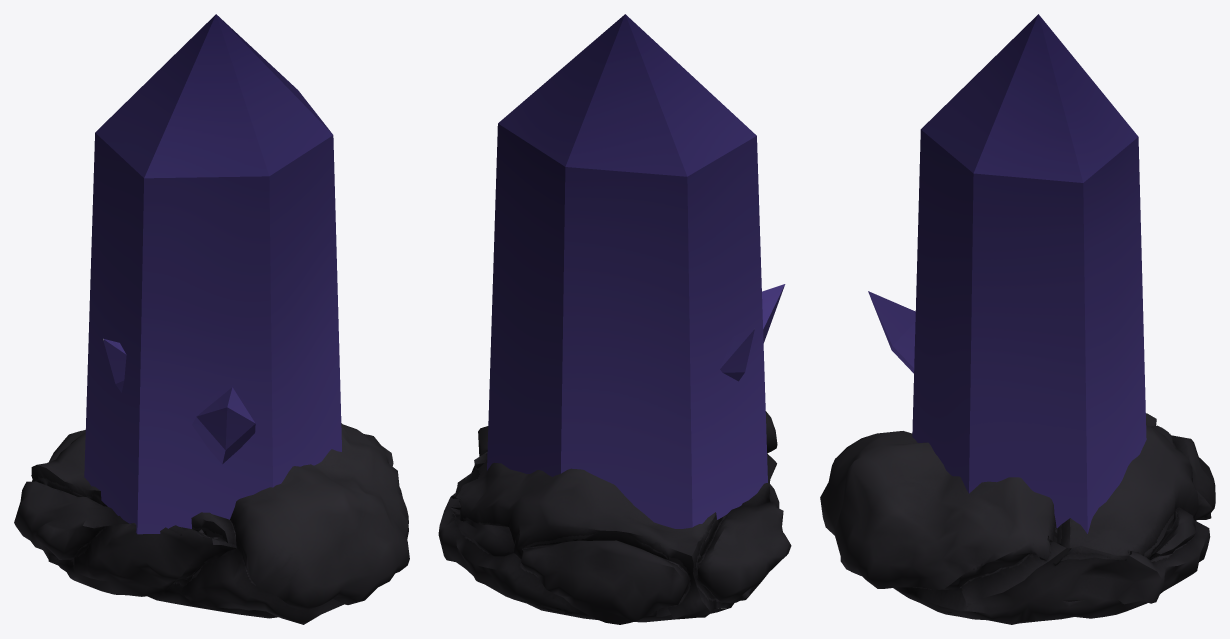
File: cristal_big_bang.fbx
3 renders of one model, left to right at view 1: azimuth 30°, elevation 25°; view 2: azimuth 150°, elevation 25°; view 3: azimuth 270°, elevation 25°, orthographic.
Parts seen in each view (by area): view 1: cristal_big_bang_cristal, cristal_big_bang; view 2: cristal_big_bang_cristal, cristal_big_bang; view 3: cristal_big_bang_cristal, cristal_big_bang.
Boxes of the visible parts, x1,y1,x2,y2 form: cristal_big_bang_cristal: [84, 14, 341, 534]; cristal_big_bang: [14, 423, 409, 624]; cristal_big_bang_cristal: [487, 14, 785, 528]; cristal_big_bang: [438, 411, 791, 624]; cristal_big_bang_cristal: [868, 14, 1146, 533]; cristal_big_bang: [820, 413, 1215, 624].
Bounding box in the file's own units: 3.23 × 5.12 × 3.37.
3 materials, 3 textured.
